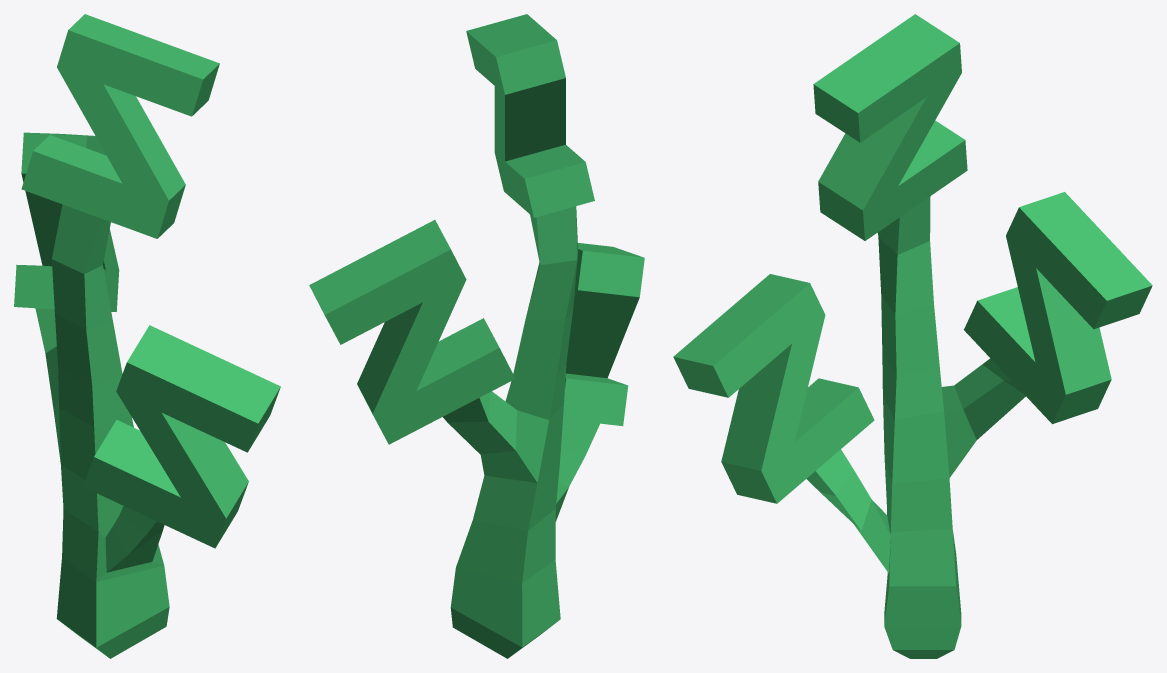
The model's file is VER 2 bedthyme 1.fbx.
3 views of the same model, side by side, from view 1: azimuth 30°, elevation 25°; view 2: azimuth 150°, elevation 25°; view 3: azimuth 270°, elevation 25° (orthographic). The views are drawn at different scales.
Parts seen in each view (by area): view 1: updated bedthyme; view 2: updated bedthyme; view 3: updated bedthyme.
Boxes of the visible parts, x1,y1,x2,y2 form: updated bedthyme: [14, 14, 280, 658]; updated bedthyme: [309, 14, 644, 658]; updated bedthyme: [673, 14, 1152, 658].
Bounding box in the file's own units: 0.3327 × 0.7107 × 1.01.
